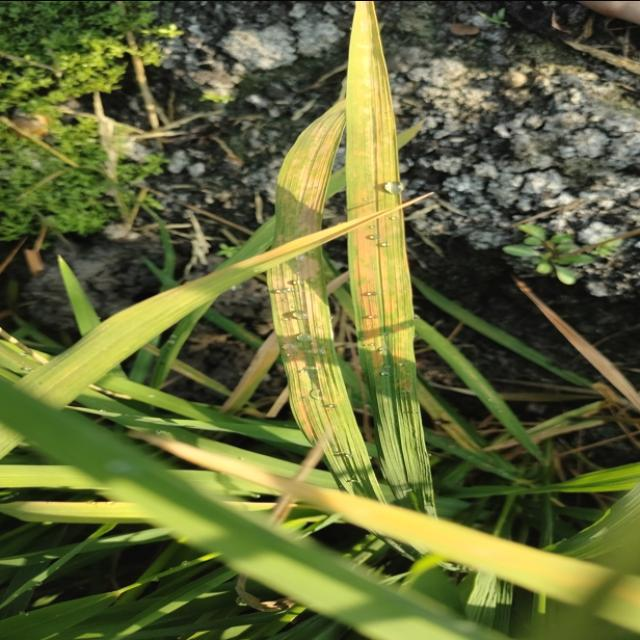Hawar Daun Bakteri: (266, 80, 352, 460), (344, 0, 423, 381)
